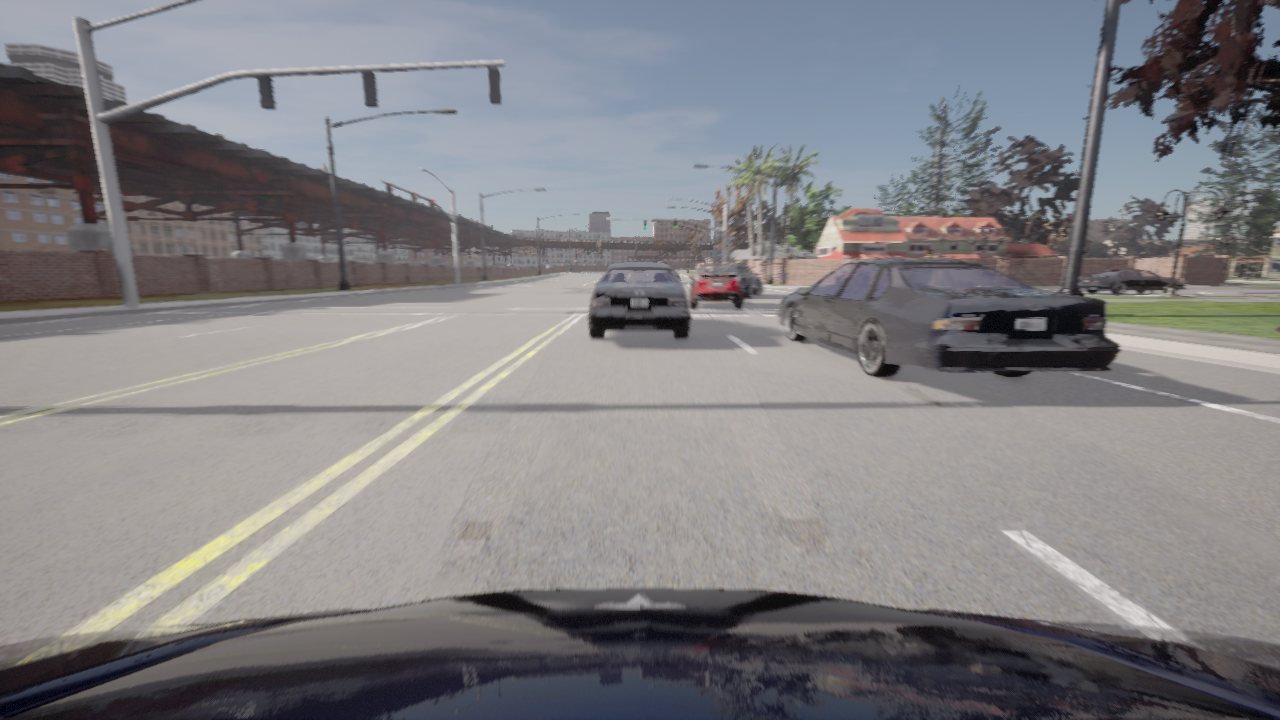cyclist: (0, 588, 1279, 719), (778, 259, 1120, 377), (588, 264, 690, 338), (1079, 270, 1186, 294), (689, 264, 743, 308), (732, 265, 762, 297), (672, 271, 679, 281)
pedestrian: (925, 248, 934, 258), (1275, 328, 1279, 331)
